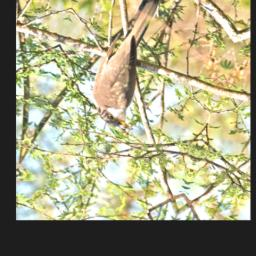Cuckoo: (81, 0, 176, 132)
